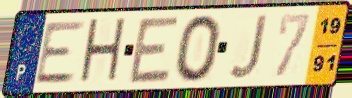7: (273, 12, 312, 80)
E: (126, 14, 182, 87), (32, 18, 89, 87)
H: (76, 16, 128, 88)
J: (227, 13, 271, 82)
O: (173, 13, 224, 85)
